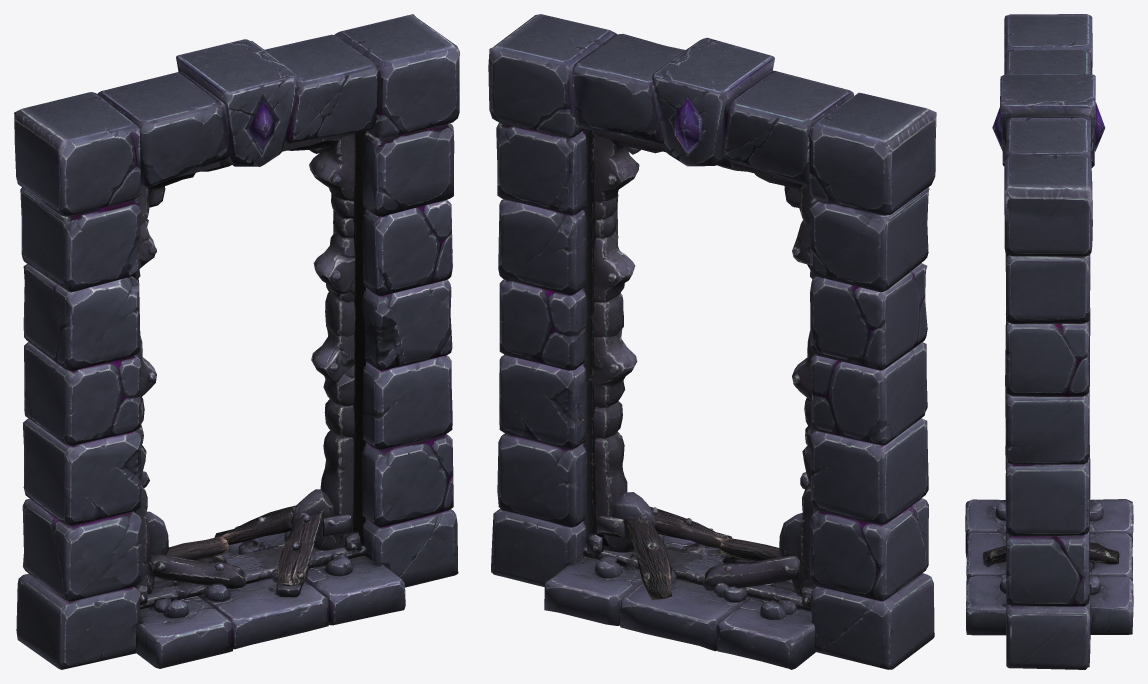
Rendered from door_destroyed.glb.
The picture shows the model from 3 angles, left to right: view 1: azimuth 30°, elevation 25°; view 2: azimuth 150°, elevation 25°; view 3: azimuth 270°, elevation 25°; orthographic projection. The views are drawn at different scales.
Size of the model in its own units: 0.7754 by 1 by 0.3105.
Materials: 1 (1 with a texture image).
